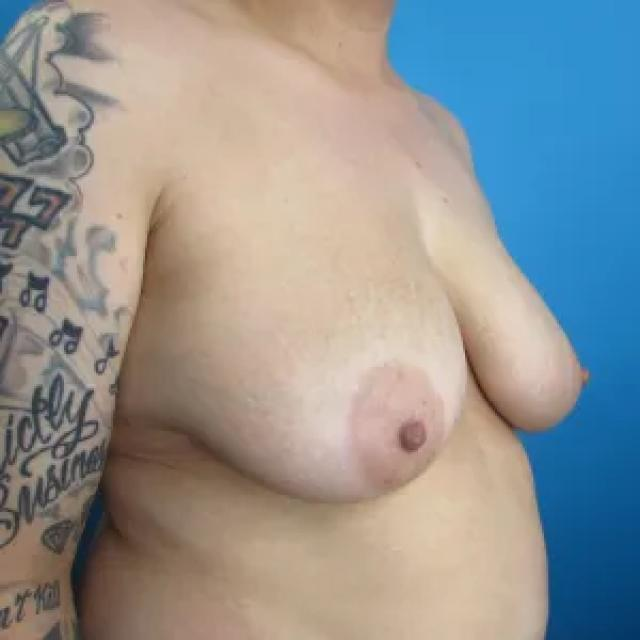Seno ileso: (147, 194, 473, 534), (475, 211, 597, 451)
